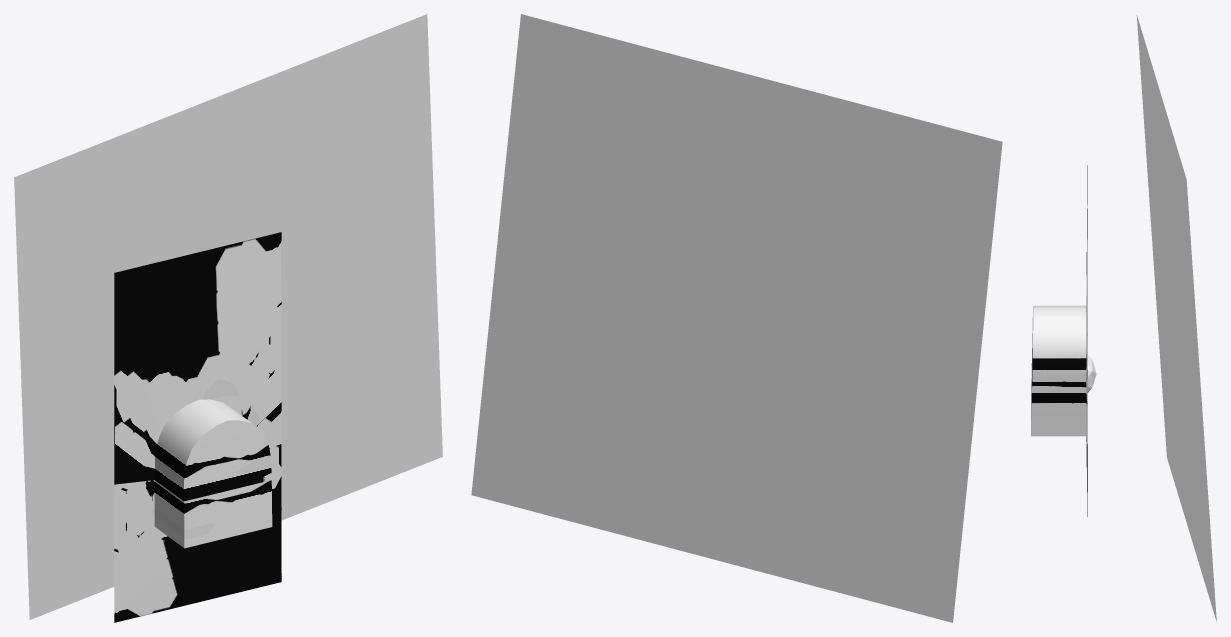
The model's file is MultistableMerge_Onion (4).fbx.
3 renders of one model, left to right at view 1: azimuth 30°, elevation 25°; view 2: azimuth 150°, elevation 25°; view 3: azimuth 270°, elevation 25°, orthographic. The views are drawn at different scales.
Visible parts, largest first — view 1: orb (2), MultistableMerge_Onion (4); view 2: orb (2); view 3: orb (2), MultistableMerge_Onion (4).
Part boxes in pixels (bbox=[...]): orb (2): bbox=[14, 14, 442, 619]; MultistableMerge_Onion (4): bbox=[114, 232, 281, 622]; orb (2): bbox=[471, 14, 1002, 622]; orb (2): bbox=[1136, 15, 1216, 622]; MultistableMerge_Onion (4): bbox=[1031, 165, 1087, 516].
Size of the model in its own units: 2.82 by 2.85 by 1.04.
Materials: 3 (2 with a texture image).
